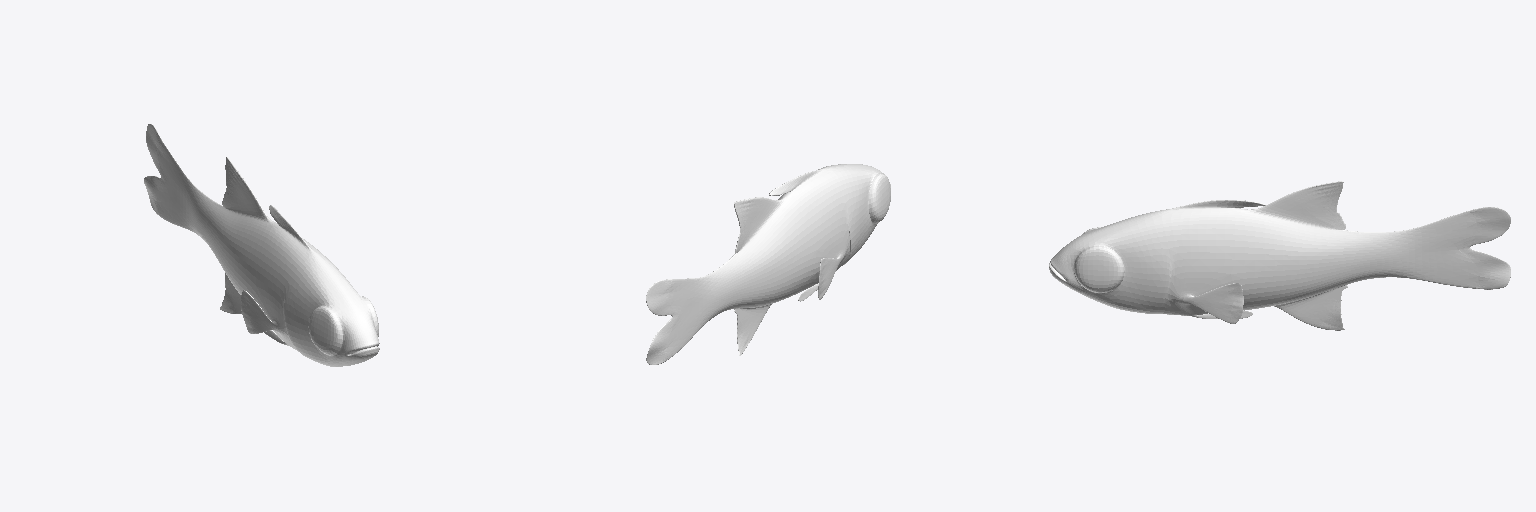
File: cardinalFish.obj
The picture shows the model from 3 angles: view 1: azimuth 30°, elevation 25°; view 2: azimuth 150°, elevation 25°; view 3: azimuth 270°, elevation 25°; orthographic projection.
Parts seen in each view (by area): view 1: 13012_Orange_Lined_Cardinalfish_v1_l3.001; view 2: 13012_Orange_Lined_Cardinalfish_v1_l3.001; view 3: 13012_Orange_Lined_Cardinalfish_v1_l3.001.
Boxes of the visible parts, box(x1,y1,x2,y2) form: 13012_Orange_Lined_Cardinalfish_v1_l3.001: box(144, 124, 379, 366); 13012_Orange_Lined_Cardinalfish_v1_l3.001: box(646, 164, 890, 364); 13012_Orange_Lined_Cardinalfish_v1_l3.001: box(1049, 181, 1510, 330).
Bounding box in the file's own units: 0.35 × 0.7555 × 2.08.